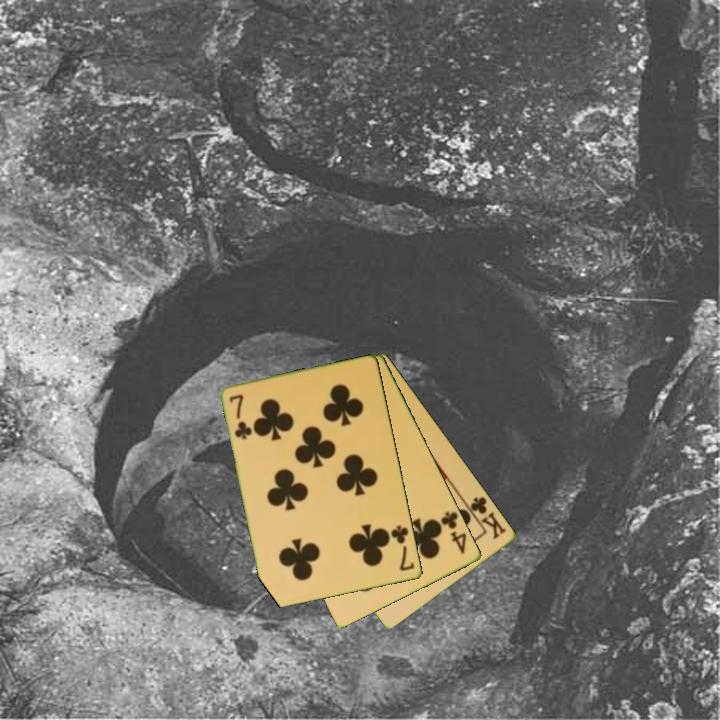4c: (435, 508, 470, 557)
7c: (388, 522, 418, 574), (226, 391, 255, 443)
Kc: (462, 493, 510, 542)
